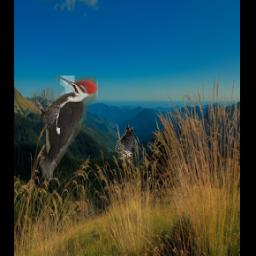Woodpecker: (31, 77, 98, 180), (116, 123, 134, 156)
